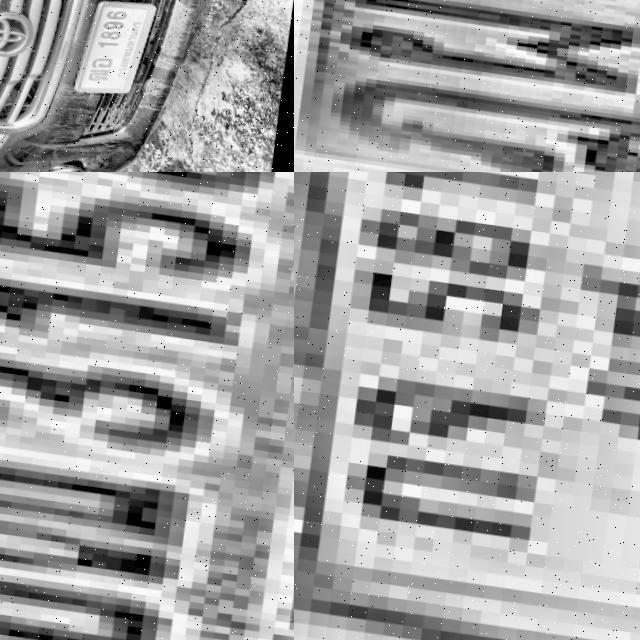license-plate: (294, 172, 640, 640), (0, 172, 294, 640), (294, 0, 640, 172), (70, 0, 158, 99)
